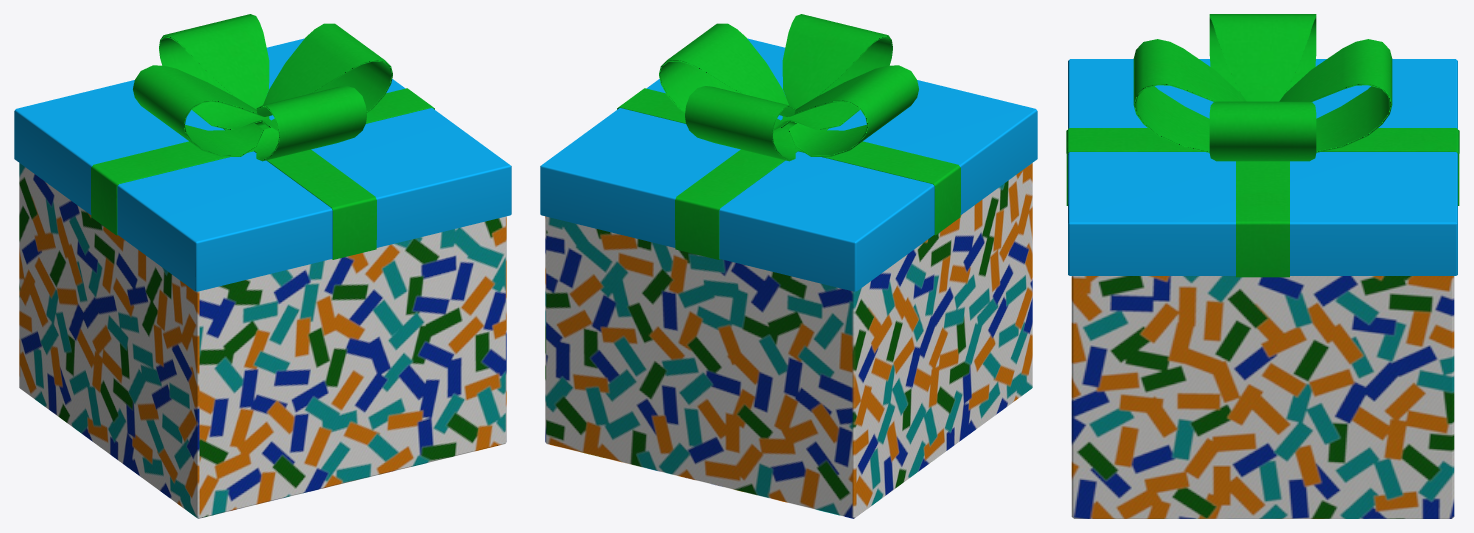
The model's file is gift_box_2.glb.
3 renders of one model, left to right at view 1: azimuth 30°, elevation 25°; view 2: azimuth 150°, elevation 25°; view 3: azimuth 270°, elevation 25°, orthographic. The views are drawn at different scales.
Visible parts, largest first — view 1: SK_GiftBox (×3); view 2: SK_GiftBox (×3); view 3: SK_GiftBox (×3).
Boxes of the visible parts, box(x1,y1,x2,y2) form: SK_GiftBox (×3): box(14, 14, 511, 518); SK_GiftBox (×3): box(540, 14, 1037, 518); SK_GiftBox (×3): box(1066, 14, 1459, 518).
Bounding box in the file's own units: 1.88 × 2 × 1.88.
Materials: 3 (3 with a texture image).
